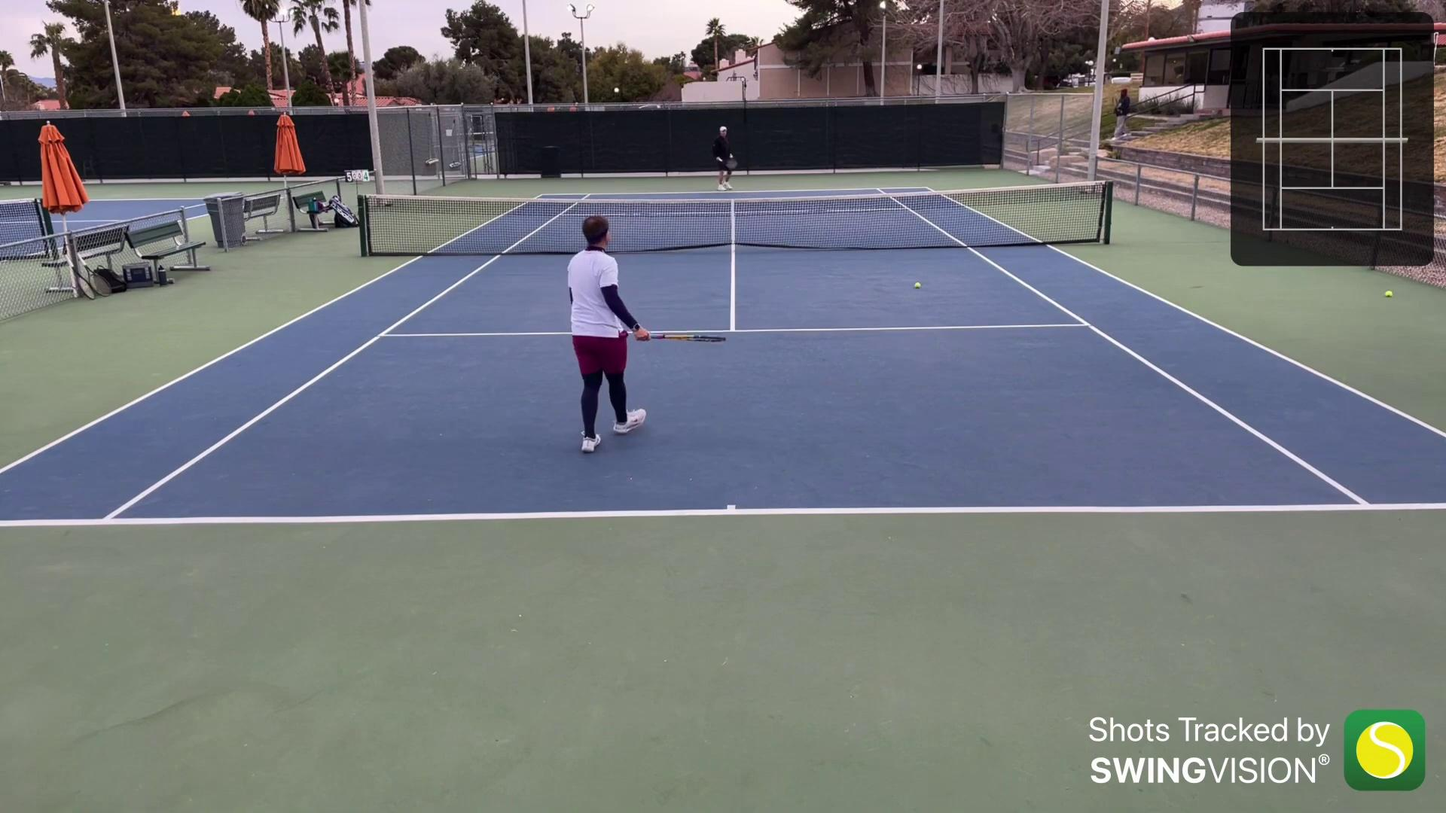ball: (1383, 289, 1394, 299), (913, 281, 922, 290)
